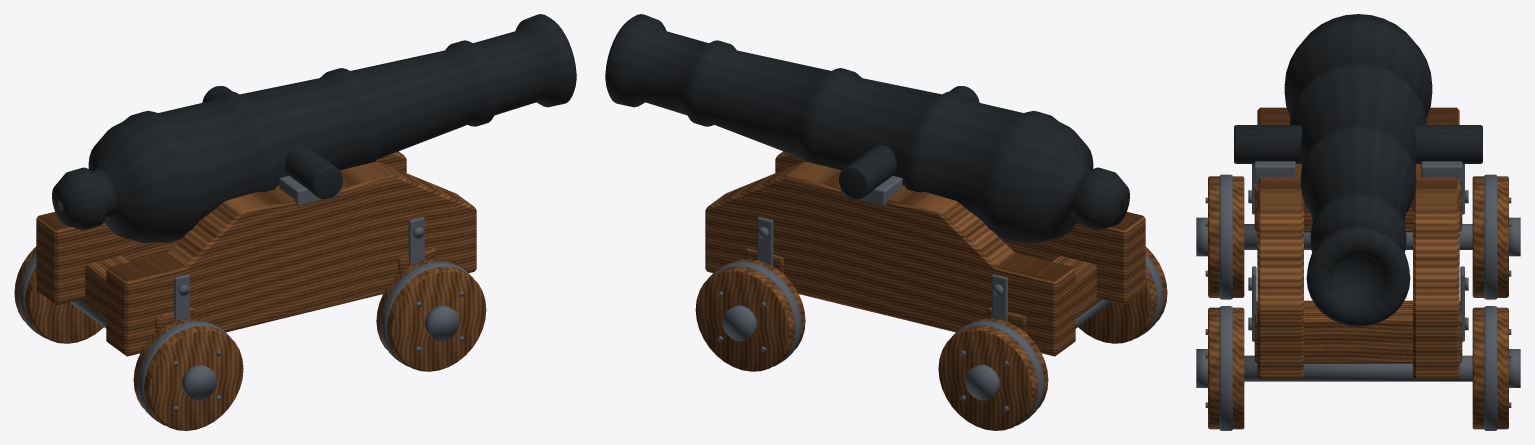
Rendered from light-cannon-lod1.glb.
3 views of the same model, side by side, from view 1: azimuth 30°, elevation 25°; view 2: azimuth 150°, elevation 25°; view 3: azimuth 270°, elevation 25° (orthographic). The views are drawn at different scales.
Visible parts, largest first — view 1: Barrel.001, Cheek_port.001, Wheel_0.49_-1.001, Wheel_-0.71_-1.001, Cheek_starboard.001, Wheel_-0.71_1.001, Trunnions.001, Crossbeam_-0.001, Rim_0.49_-1.001, Rim_-0.71_-1.001, Hub_-0.71_-1.001, Hub_0.49_-1.001 (+4 smaller); view 2: Barrel.001, Cheek_starboard.001, Wheel_0.49_1.001, Wheel_-0.71_1.001, Cheek_port.001, Wheel_-0.71_-1.001, Trunnions.001, Crossbeam_-0.001, Rim_0.49_1.001, Rim_-0.71_1.001, Hub_-0.71_1.001, Hub_0.49_1.001 (+4 smaller); view 3: Barrel.001, Cheek_port.001, Cheek_starboard.001, Crossbeam_0.001, Trunnions.001, Wheel_0.49_1.001, Wheel_0.49_-1.001, Wheel_-0.71_1.001, Wheel_-0.71_-1.001, Axle_0.001, Rim_-0.71_1.001, Rim_-0.71_-1.001 (+12 smaller).
Boxes of the visible parts, x1=… form: Barrel.001: x1=52, y1=14, x2=576, y2=243; Cheek_port.001: x1=106, y1=162, x2=476, y2=356; Wheel_0.49_-1.001: x1=376, y1=259, x2=486, y2=371; Wheel_-0.71_-1.001: x1=133, y1=318, x2=243, y2=430; Cheek_starboard.001: x1=36, y1=151, x2=406, y2=304; Wheel_-0.71_1.001: x1=14, y1=246, x2=103, y2=343; Trunnions.001: x1=202, y1=86, x2=342, y2=198; Crossbeam_-0.001: x1=80, y1=256, x2=193, y2=332; Rim_0.49_-1.001: x1=380, y1=261, x2=473, y2=366; Rim_-0.71_-1.001: x1=137, y1=320, x2=231, y2=425; Hub_-0.71_-1.001: x1=181, y1=364, x2=216, y2=400; Hub_0.49_-1.001: x1=424, y1=305, x2=459, y2=341; Barrel.001: x1=605, y1=14, x2=1129, y2=243; Cheek_starboard.001: x1=705, y1=162, x2=1075, y2=356; Wheel_0.49_1.001: x1=695, y1=259, x2=805, y2=371; Wheel_-0.71_1.001: x1=938, y1=318, x2=1048, y2=430; Cheek_port.001: x1=775, y1=151, x2=1145, y2=304; Wheel_-0.71_-1.001: x1=1078, y1=246, x2=1167, y2=343; Trunnions.001: x1=839, y1=86, x2=979, y2=198; Crossbeam_-0.001: x1=988, y1=256, x2=1101, y2=332; Rim_0.49_1.001: x1=708, y1=261, x2=801, y2=366; Rim_-0.71_1.001: x1=950, y1=320, x2=1044, y2=425; Hub_-0.71_1.001: x1=965, y1=364, x2=1000, y2=400; Hub_0.49_1.001: x1=722, y1=305, x2=757, y2=341; Barrel.001: x1=1284, y1=14, x2=1432, y2=326; Cheek_port.001: x1=1257, y1=107, x2=1303, y2=379; Cheek_starboard.001: x1=1413, y1=107, x2=1459, y2=379; Crossbeam_0.001: x1=1254, y1=300, x2=1462, y2=363; Trunnions.001: x1=1234, y1=125, x2=1482, y2=163; Wheel_0.49_1.001: x1=1472, y1=307, x2=1508, y2=429; Wheel_0.49_-1.001: x1=1208, y1=307, x2=1244, y2=429; Wheel_-0.71_1.001: x1=1472, y1=176, x2=1508, y2=297; Wheel_-0.71_-1.001: x1=1208, y1=176, x2=1244, y2=297; Axle_0.001: x1=1244, y1=355, x2=1472, y2=381; Rim_-0.71_1.001: x1=1484, y1=174, x2=1497, y2=299; Rim_-0.71_-1.001: x1=1219, y1=174, x2=1232, y2=299.
Bounding box in the file's own units: 2.46 × 1.24 × 1.25.
4 materials, 2 textured.
